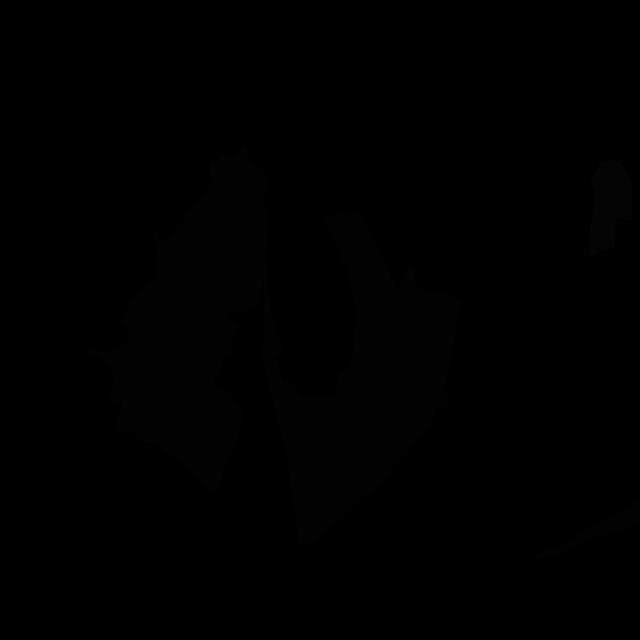cardboard: (84, 144, 269, 493), (262, 210, 437, 544), (397, 265, 460, 410), (536, 497, 640, 561)
soft_plastic: (588, 160, 632, 256)
